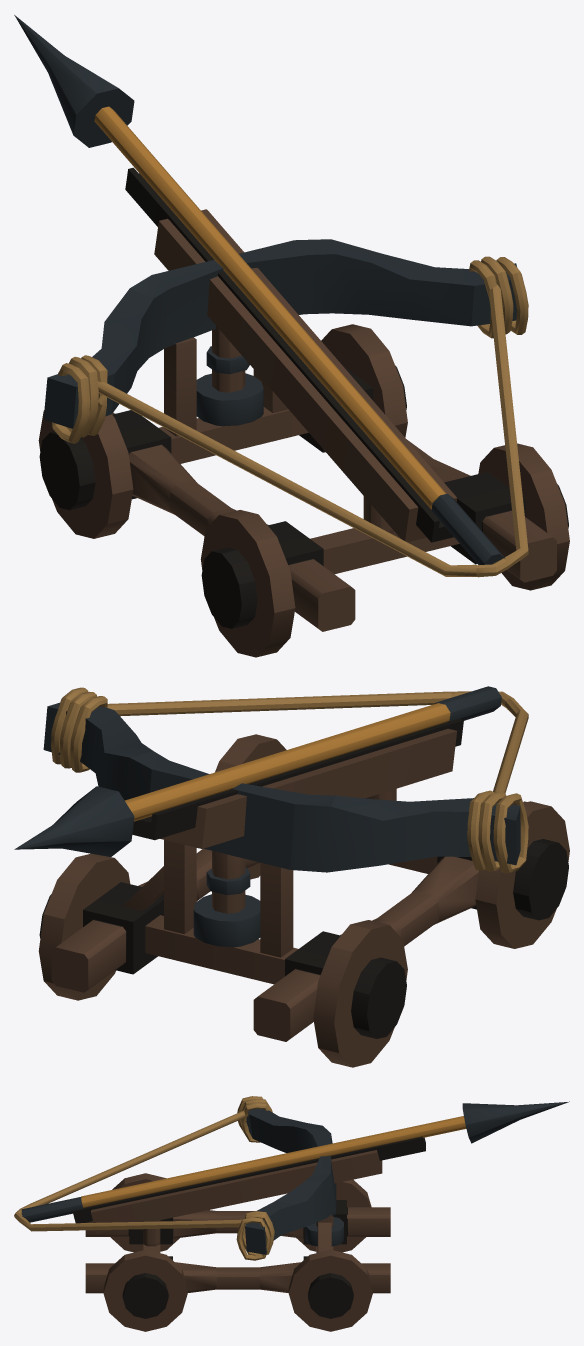
File: CrossBow.fbx
The picture shows the model from 3 angles, top to bottom: view 1: azimuth 30°, elevation 25°; view 2: azimuth 150°, elevation 25°; view 3: azimuth 270°, elevation 25°; orthographic projection. The views are drawn at different scales.
Parts seen in each view (by area): view 1: Cube.038; view 2: Cube.038; view 3: Cube.038.
Boxes of the visible parts, left/top/right/bottom form: Cube.038: left=14, top=15, right=569, bottom=657; Cube.038: left=14, top=686, right=569, bottom=1067; Cube.038: left=14, top=1096, right=569, bottom=1331.
Size of the model in its own units: 4.68 by 3.13 by 8.35.
